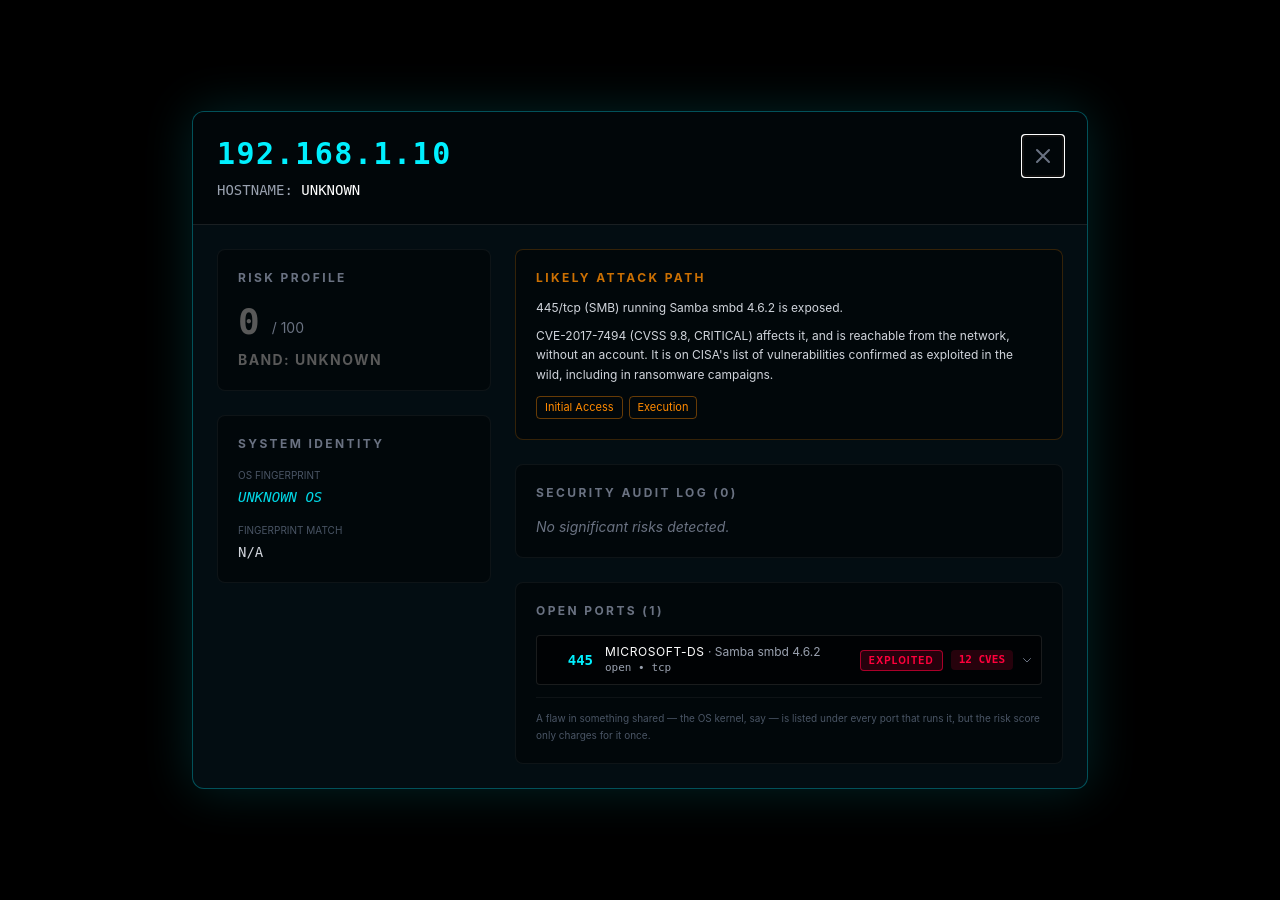
Test: HostDetailsModal › a porta abre para as falhas conhecidas, com o vector traduzido e o link para o NVD
expect the text "12 CVES" is shown: met, box [951,650,1013,670]
Click the button "microsoft-ds" at (789, 660), box [537,636,1041,684]
(page scrolled)
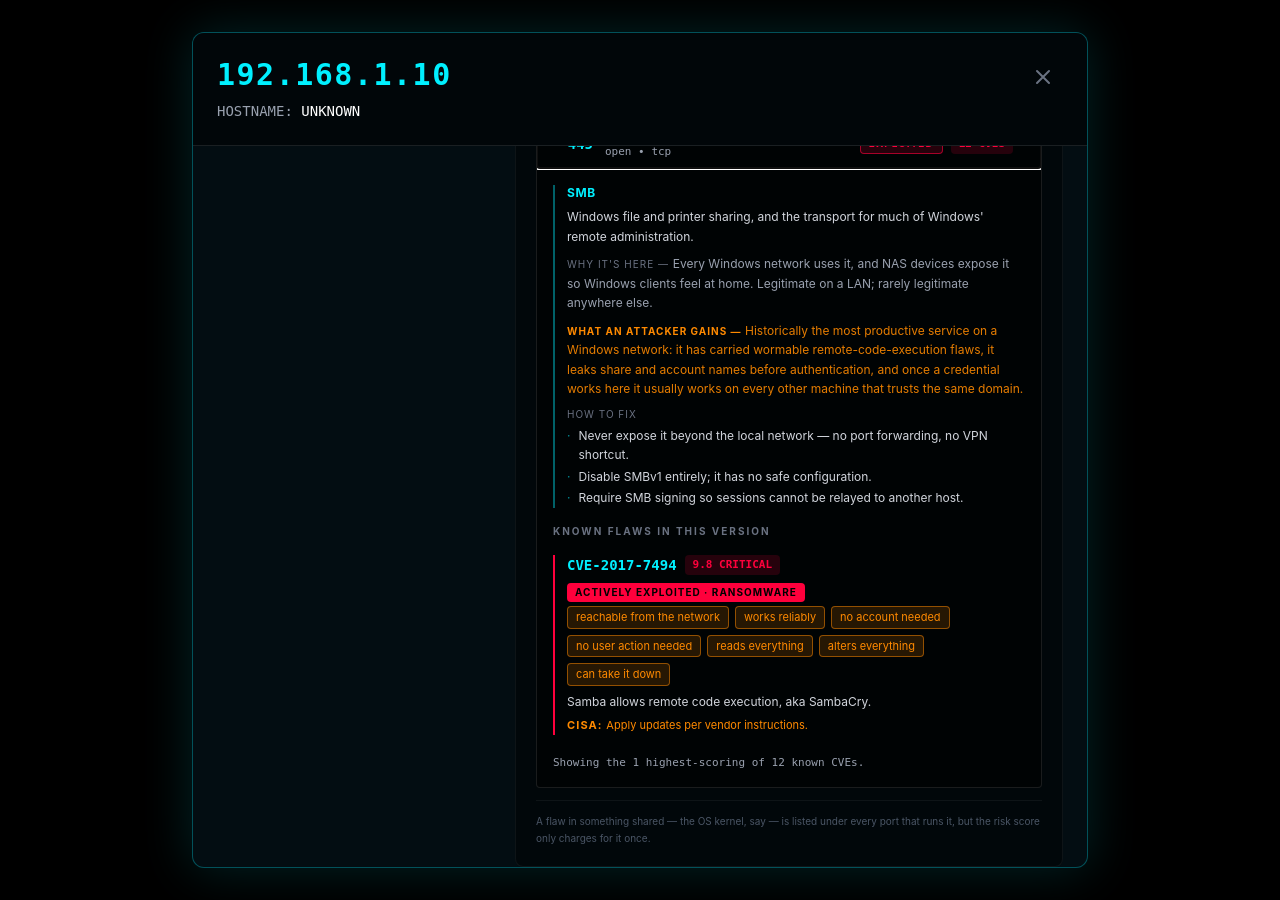
expect the text "9.8 CRITICAL" is shown: met, box [685,554,780,575]
expect the text "no account needed" is shown: met, box [831,606,950,628]
expect the text "Showing the 1 highest-scoring of 12 known CVEs." is shown: met, box [553,756,864,769]
